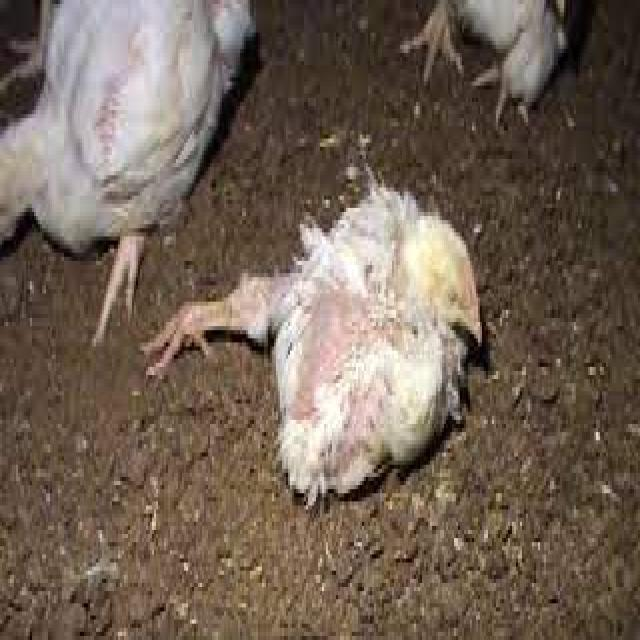poussin: (149, 175, 489, 512), (0, 0, 261, 347), (397, 0, 571, 160)
